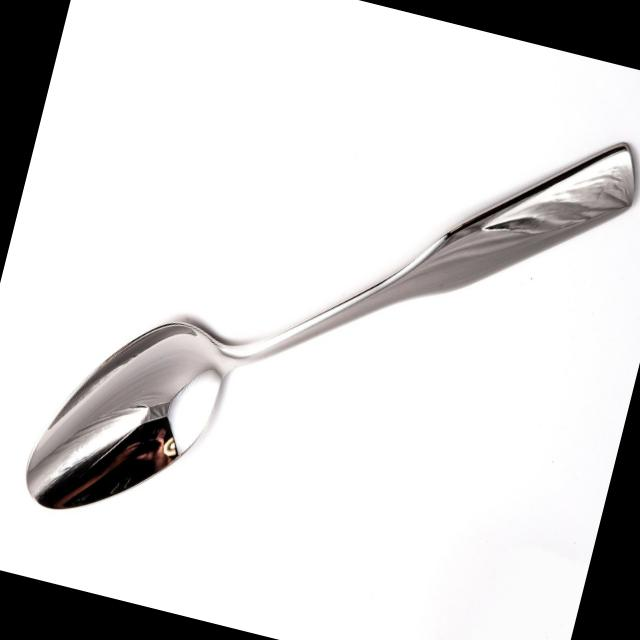spoon: (7, 0, 640, 640)
